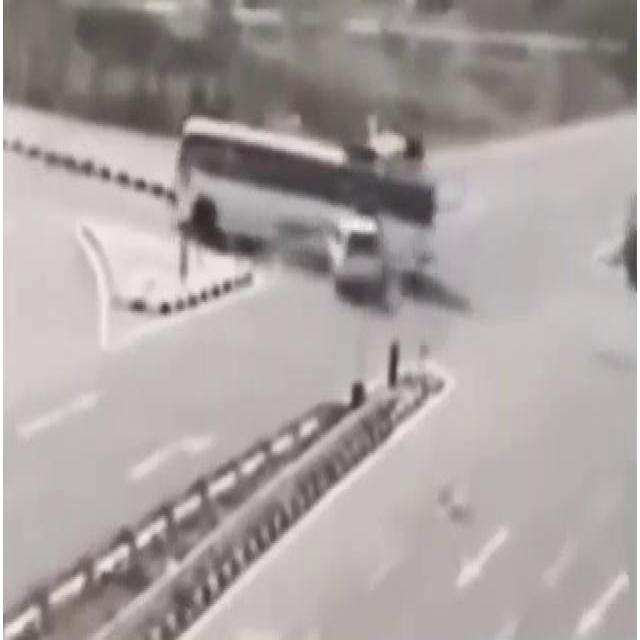accident: (172, 112, 438, 304)
